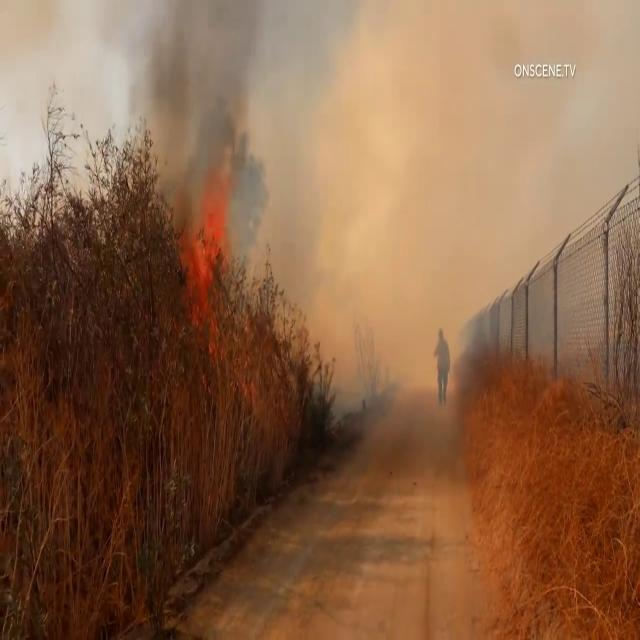Fire: (178, 166, 236, 342)
Smoke: (133, 0, 447, 430)
